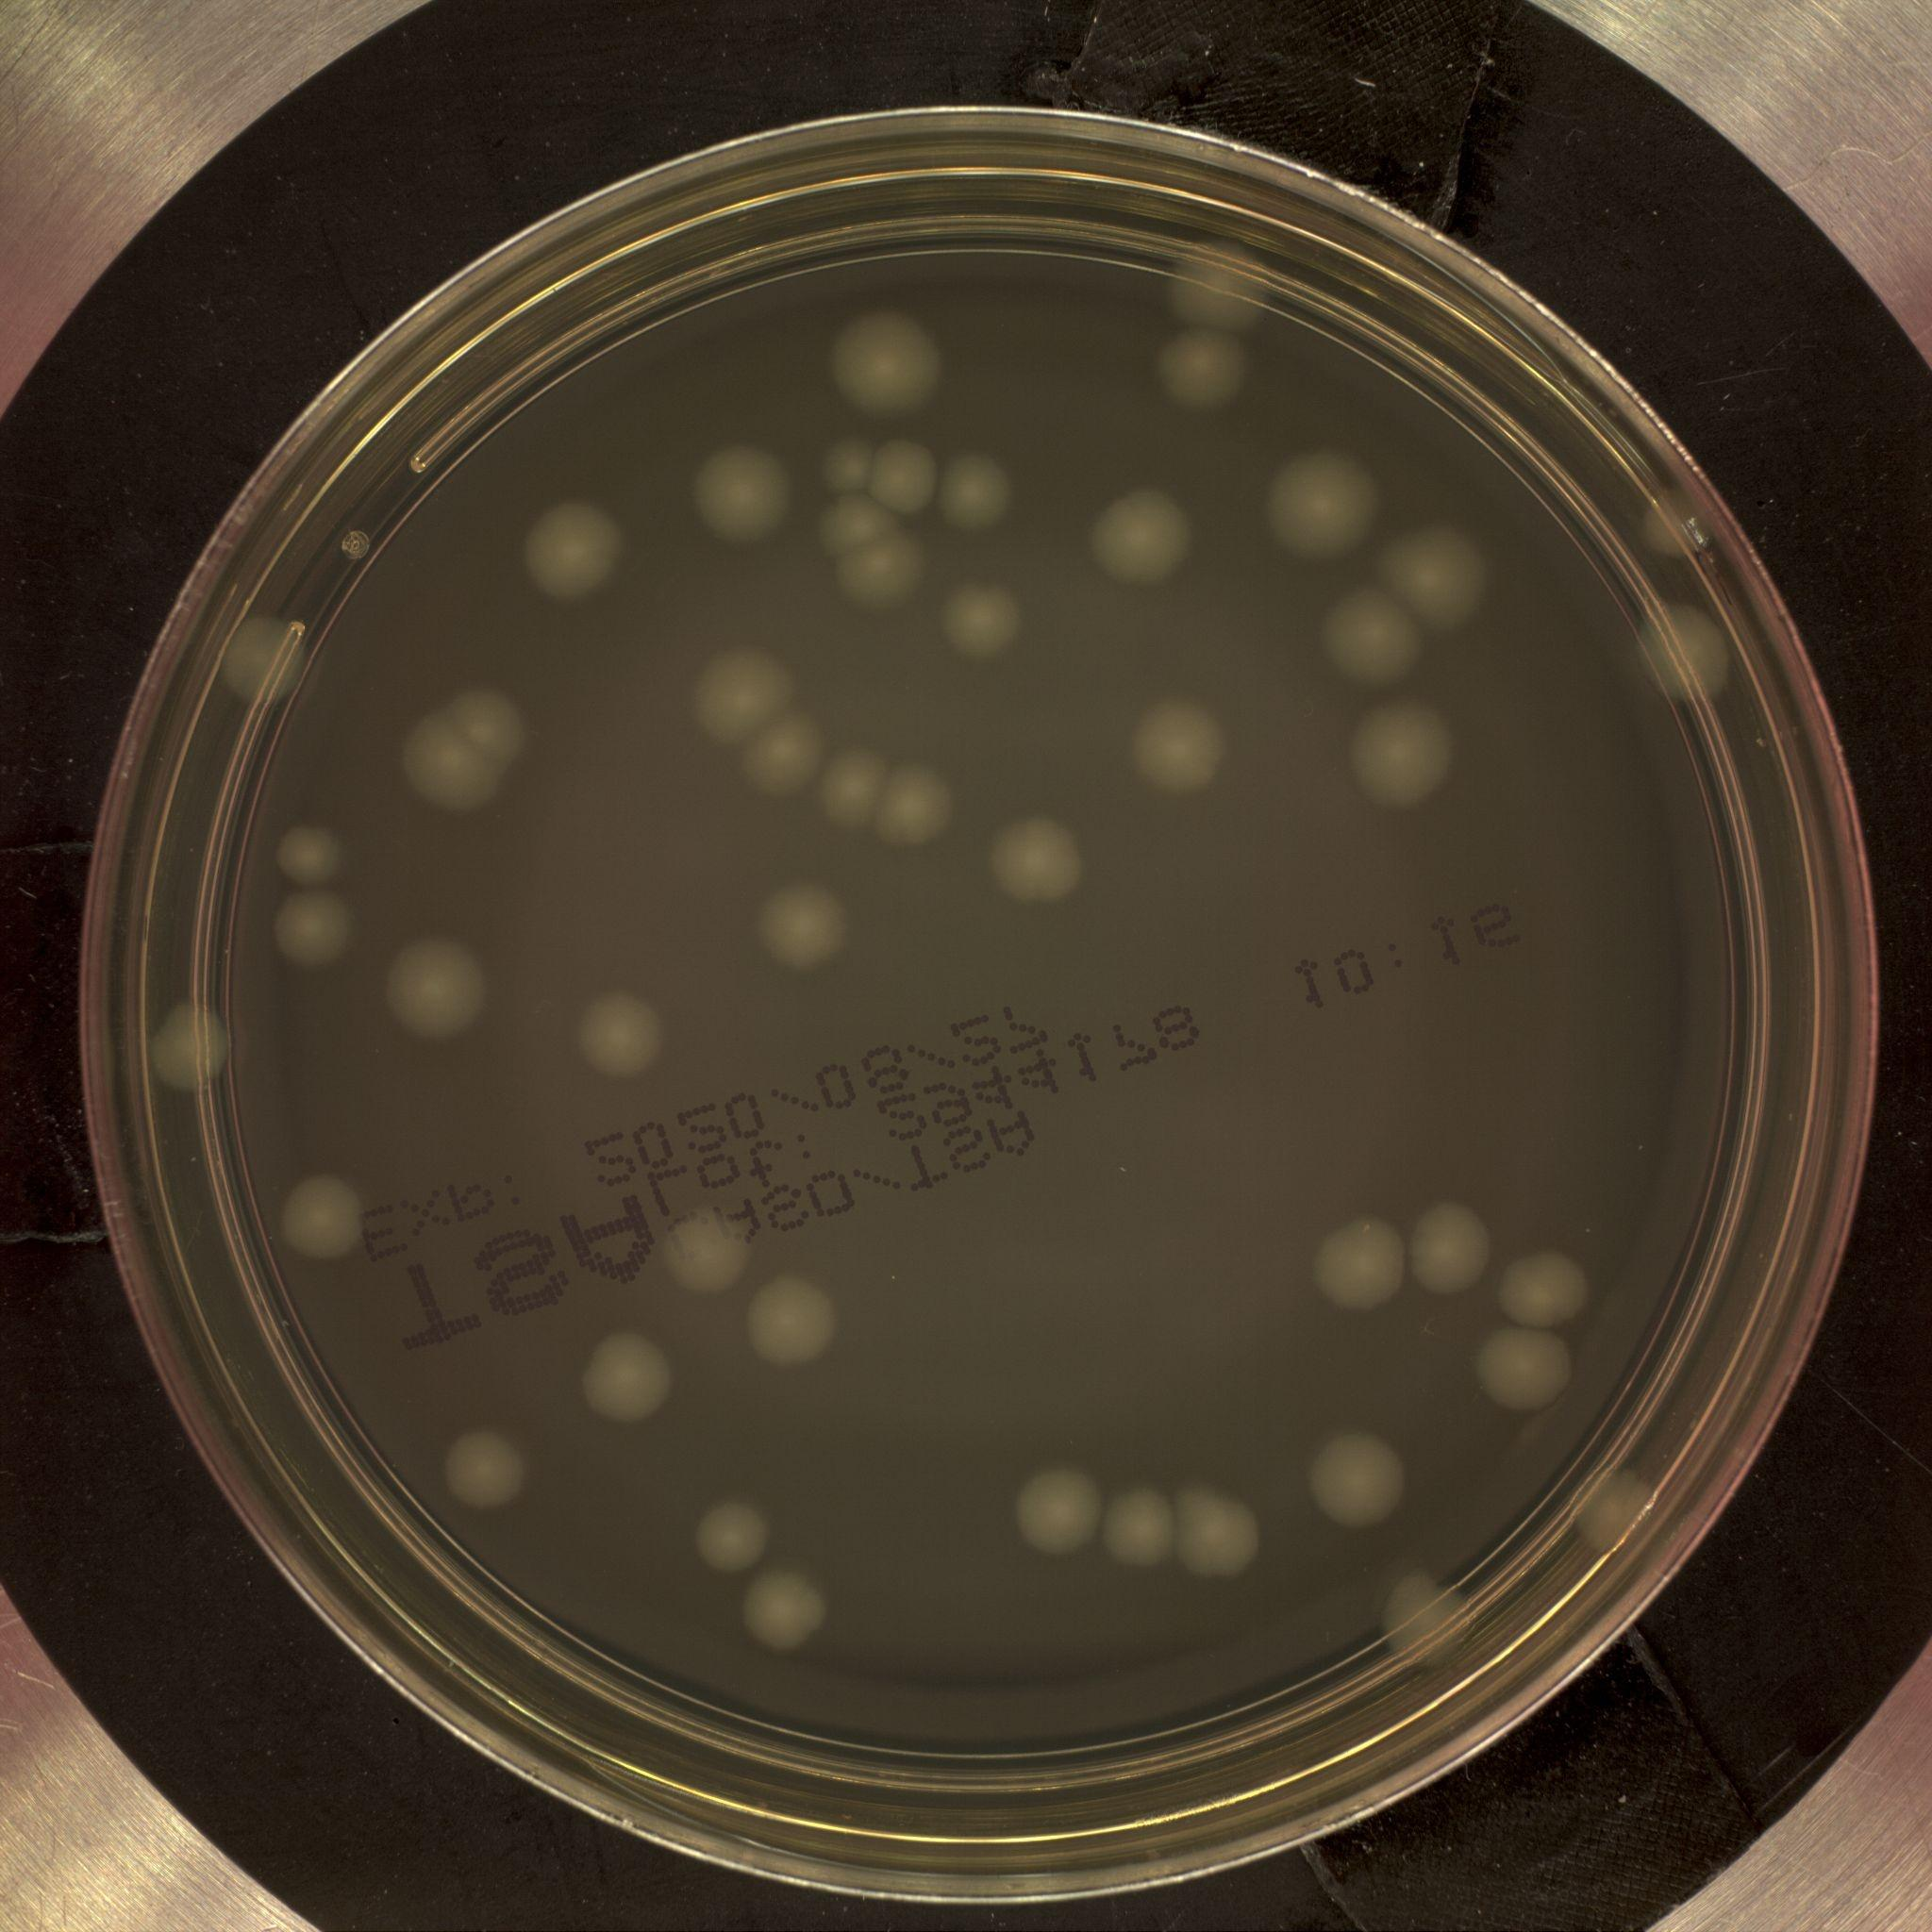e. coli: (1340, 701, 1470, 814), (409, 695, 536, 808), (1623, 597, 1740, 714), (1377, 509, 1489, 632), (1165, 224, 1287, 324), (384, 937, 495, 1044), (563, 1324, 677, 1424), (1269, 450, 1368, 566), (1374, 1569, 1495, 1660), (1409, 1191, 1501, 1311), (1311, 1434, 1416, 1538), (1095, 488, 1203, 588), (742, 1267, 850, 1365), (752, 874, 854, 974), (1321, 585, 1425, 682), (1148, 318, 1256, 408), (1309, 1214, 1415, 1305), (702, 450, 793, 554), (1105, 1478, 1199, 1578), (529, 500, 627, 594), (994, 814, 1092, 908), (576, 981, 668, 1082), (1014, 1462, 1110, 1557), (1478, 1333, 1571, 1431), (208, 604, 307, 695), (1494, 1248, 1599, 1333), (843, 311, 935, 406), (699, 654, 793, 745), (136, 1000, 227, 1091), (284, 1176, 375, 1264), (693, 1491, 784, 1578), (668, 1201, 752, 1295), (749, 1569, 841, 1654), (741, 708, 834, 790), (1176, 1488, 1262, 1575), (881, 767, 963, 858), (1139, 710, 1231, 790), (812, 758, 903, 837), (1564, 1472, 1648, 1550), (277, 877, 354, 962), (822, 491, 907, 566), (441, 1424, 520, 1503), (843, 547, 932, 616), (947, 462, 1020, 538), (950, 588, 1026, 658), (866, 450, 941, 507), (277, 827, 347, 884), (825, 450, 874, 509)
